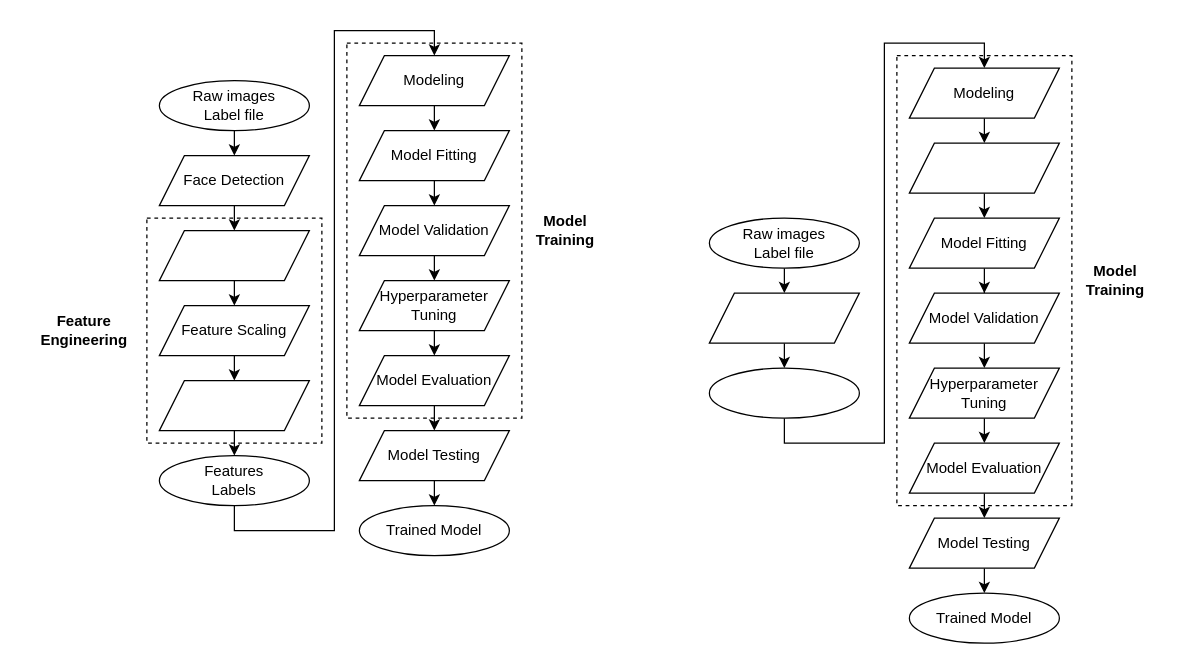
The diagram is 1180 pixels wide and 665 high, and some of its shapes have lost their labels. Each missing label, with the centre of its shape:
Feature Extration: [233,255]
Feature Selection: [233,405]
Image Augmentation: [783,317]
Images Labels: [783,392]
Model Compiling: [983,167]
